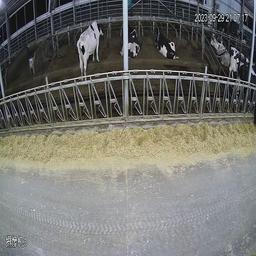cow: (75, 20, 104, 80), (153, 26, 178, 59), (129, 22, 141, 58)
